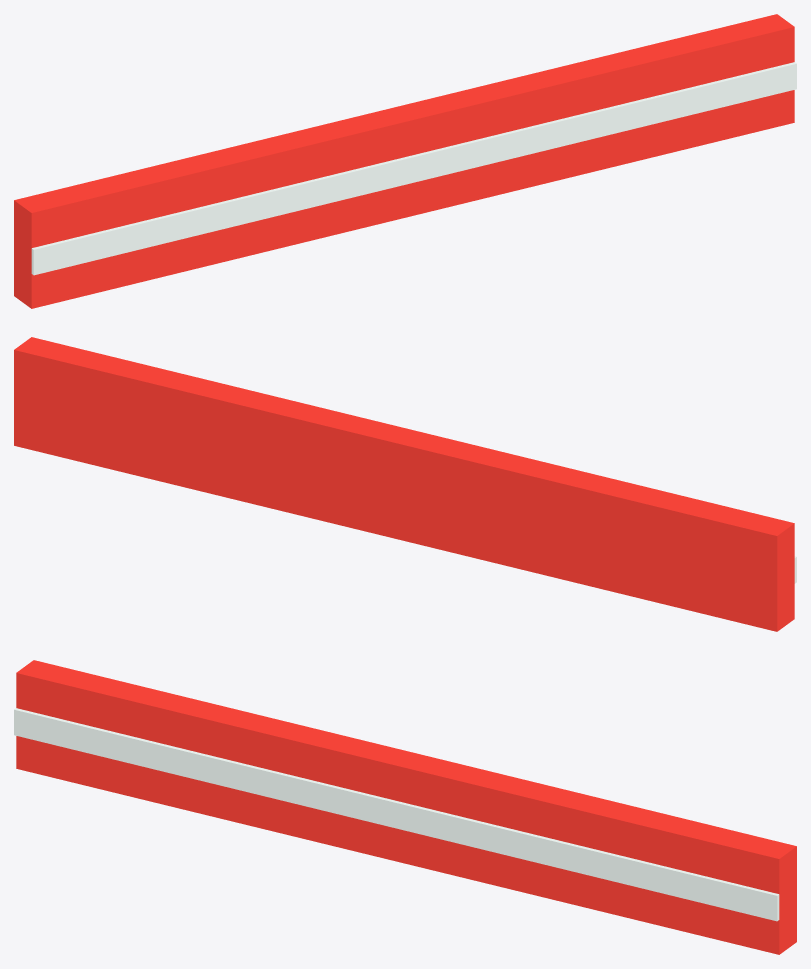
Rendered from LaserBeam.gltf.
The picture shows the model from 3 angles, top to bottom: view 1: azimuth 30°, elevation 25°; view 2: azimuth 150°, elevation 25°; view 3: azimuth 330°, elevation 25°; orthographic projection.
Parts seen in each view (by area): view 1: LaserBeam_baked; view 2: LaserBeam_baked; view 3: LaserBeam_baked.
Boxes of the visible parts, x1,y1,x2,y2 form: LaserBeam_baked: (14,14,796,308); LaserBeam_baked: (14,337,796,631); LaserBeam_baked: (14,660,796,954).
Size of the model in its own units: 1 by 0.12 by 0.045.
